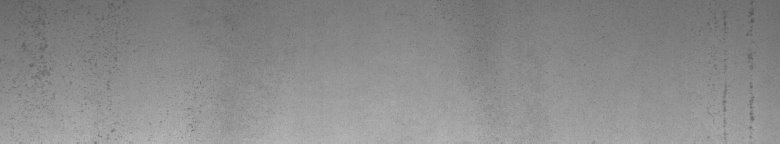ib: (22, 12, 116, 136)
